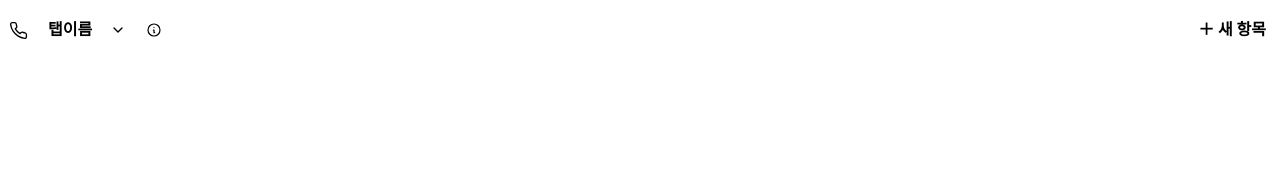
제목 ▾ 메뉴 › 「이름 바꾸기」 는 제목 편집칸을 연다
This screenshot has width=1280, height=172.
Click the button named "탭이름 탭 메뉴".
click(118, 30)  # box [102,14,134,46]
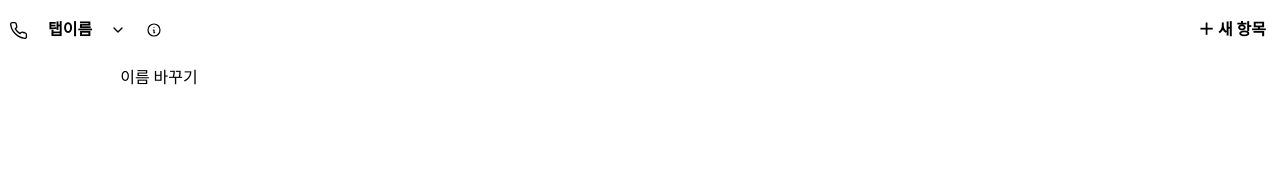
Click the menu item "이름 바꾸기".
click(218, 78)  # box [108,58,328,98]
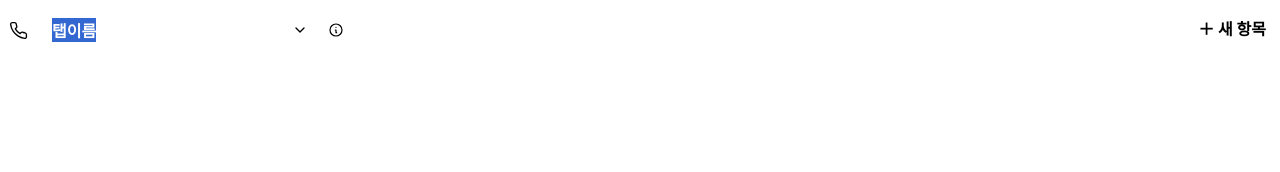
Expected: the field named "보드 이름" holds "탭이름", [44,14,278,46]
